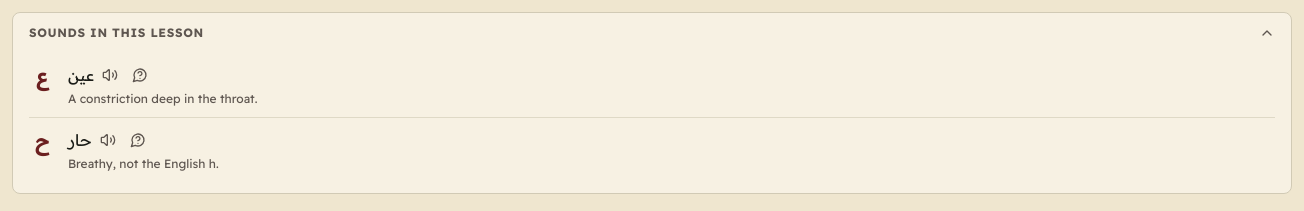
Test: SoundSpotlight — collapsing › closes on a tap
What coordinates should you click on to do the following:
click the button "Sounds in this lesson"
I would click on:
 (116, 32)
Its box is left=13, top=13, right=1291, bottom=53.
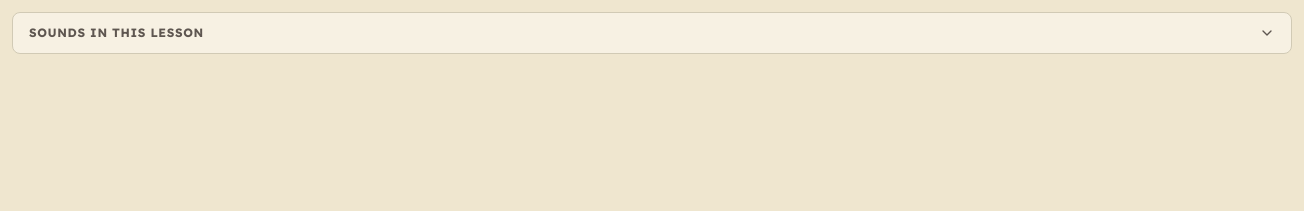
Expected: the button "Sounds in this lesson" is collapsed, left=13, top=13, right=1291, bottom=53
Expected: the text "عين" is gone
